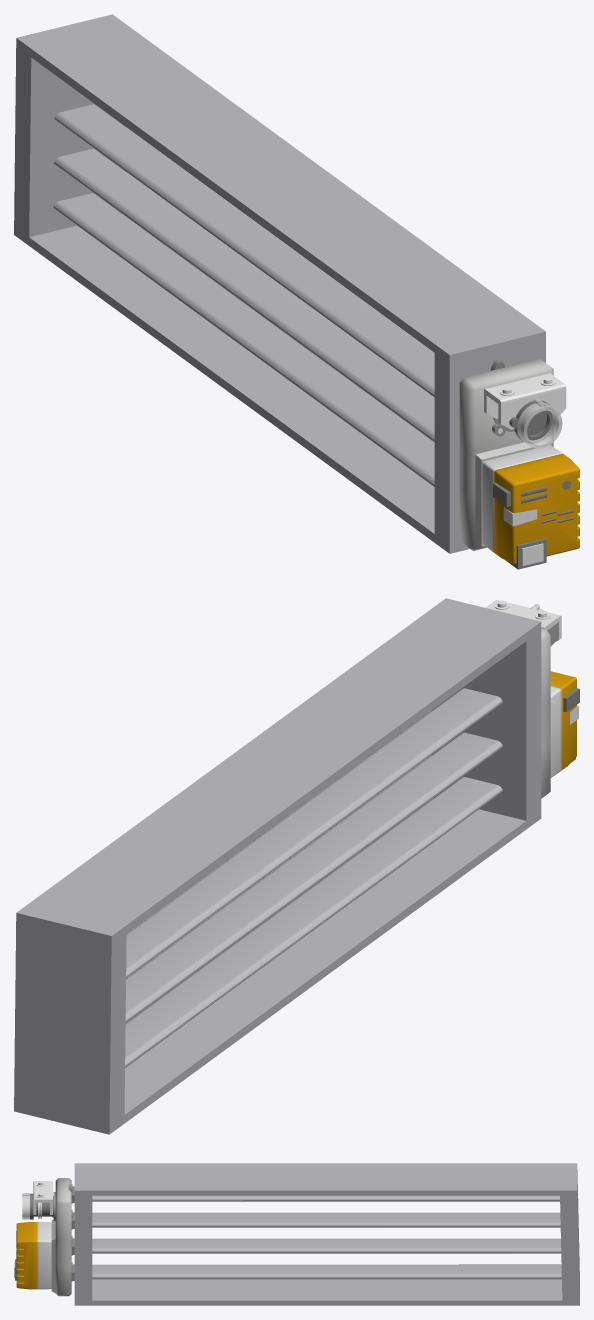
File: DAMPER4.glb
3 renders of one model, top to bottom at view 1: azimuth 30°, elevation 25°; view 2: azimuth 150°, elevation 25°; view 3: azimuth 270°, elevation 25°, orthographic. The views are drawn at different scales.
Visible parts, largest first — view 1: DAMPER BODY003, ACTUATOR2.002, DAMPER LEAF-016, DAMPER LEAF-014, DAMPER LEAF-013; view 2: DAMPER BODY003, DAMPER LEAF-016, DAMPER LEAF-014, DAMPER LEAF-013, ACTUATOR2.002; view 3: DAMPER BODY003, DAMPER LEAF-016, DAMPER LEAF-014, DAMPER LEAF-013, ACTUATOR2.002, DAMPER LEAF-015.
Part boxes in pixels (x1,y1,x2,y2): DAMPER BODY003: (14,14,545,553); ACTUATOR2.002: (459,359,579,569); DAMPER LEAF-016: (53,193,434,486); DAMPER LEAF-014: (54,149,434,442); DAMPER LEAF-013: (54,104,434,397); DAMPER BODY003: (14,598,541,1134); DAMPER LEAF-016: (125,777,502,1067); DAMPER LEAF-014: (125,732,502,1022); DAMPER LEAF-013: (126,688,502,978); ACTUATOR2.002: (485,600,579,798); DAMPER BODY003: (74,1163,579,1305); DAMPER LEAF-016: (71,1262,561,1281); DAMPER LEAF-014: (71,1236,561,1255); DAMPER LEAF-013: (71,1210,560,1229); ACTUATOR2.002: (14,1178,71,1296); DAMPER LEAF-015: (68,1184,559,1203).
Size of the model in its own units: 0.1529 by 0.3014 by 1.34.
